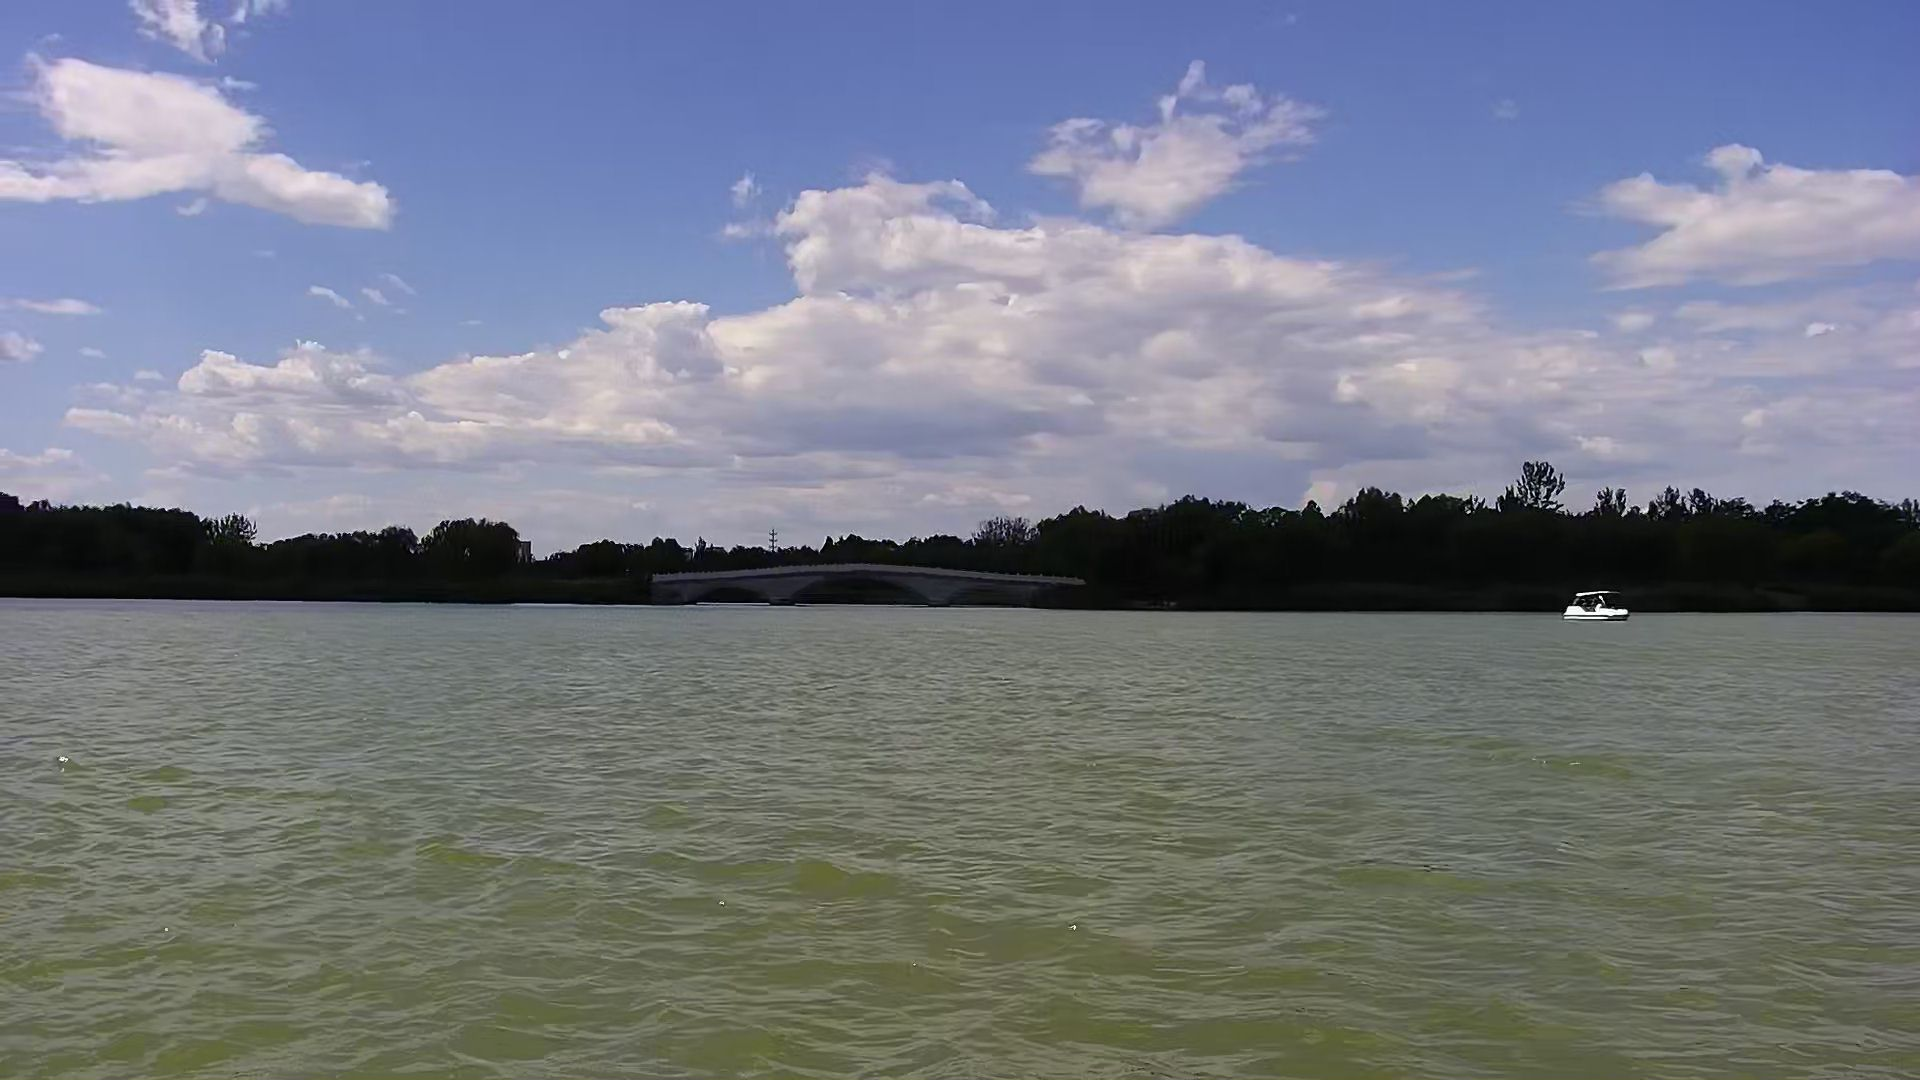boat: (1553, 580, 1636, 622)
bridge: (647, 553, 1092, 613)
